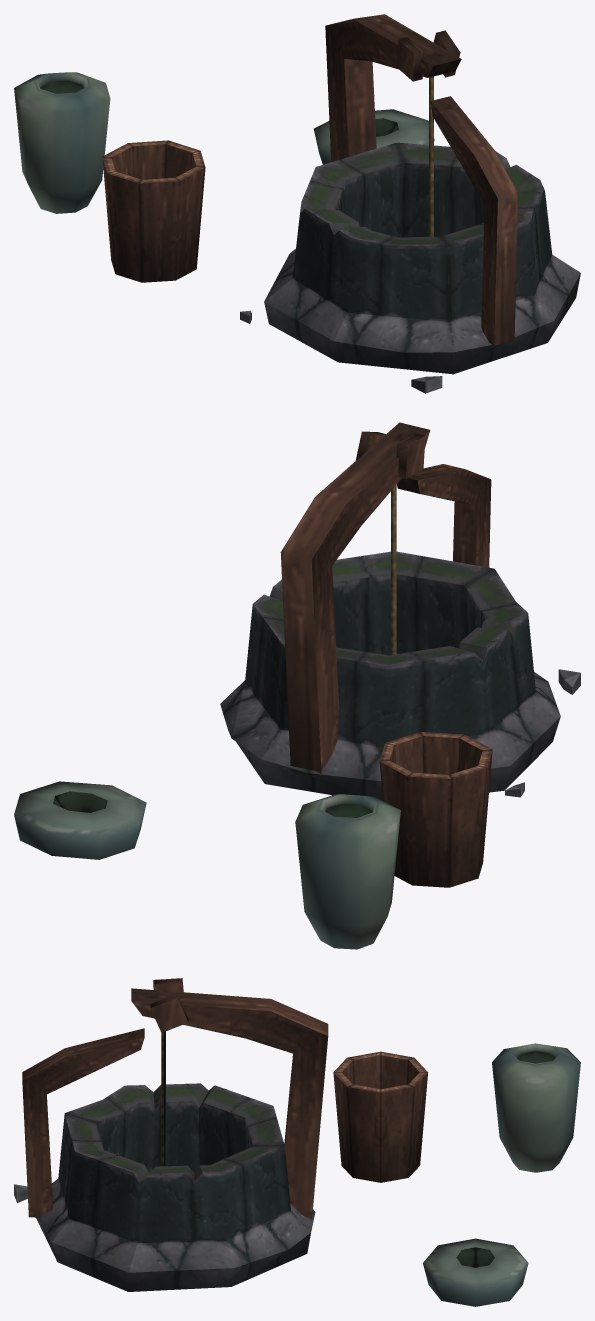
Rendered from shijing.FBX.
The picture shows the model from 3 angles, top to bottom: view 1: azimuth 30°, elevation 25°; view 2: azimuth 150°, elevation 25°; view 3: azimuth 270°, elevation 25°; orthographic projection. The views are drawn at different scales.
Visible parts, largest first — view 1: shijing; view 2: shijing; view 3: shijing.
Boxes of the visible parts, x1,y1,x2,y2 form: shijing: [14, 14, 580, 393]; shijing: [14, 422, 580, 949]; shijing: [14, 978, 580, 1306].
Bounding box in the file's own units: 987 × 1419 × 689.
